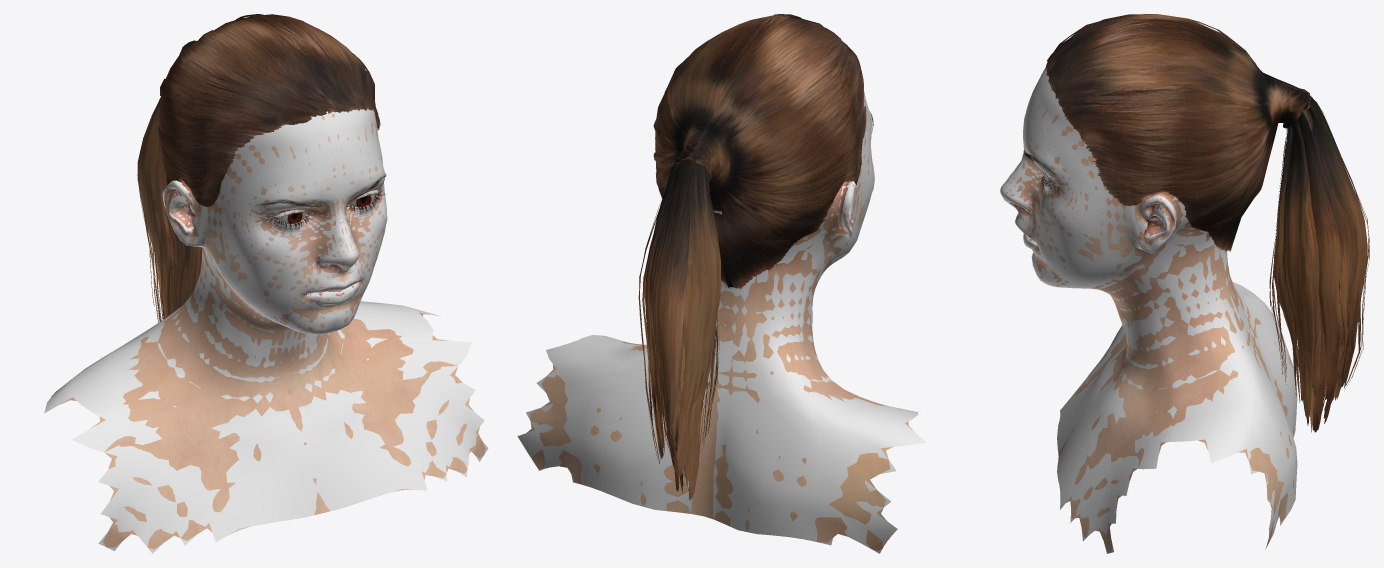
The model's file is FemaleHead.glb.
3 views of the same model, side by side, from view 1: azimuth 30°, elevation 25°; view 2: azimuth 150°, elevation 25°; view 3: azimuth 270°, elevation 25° (orthographic). The views are drawn at different scales.
Visible parts, largest first — view 1: scan, skin, hair; view 2: hair, scan, skin; view 3: hair, scan, skin.
Part boxes in pixels (box(x1,y1,x2,y2)): scan: box(44, 108, 488, 553); skin: box(51, 113, 485, 549); hair: box(137, 14, 380, 322); hair: box(638, 14, 866, 500); scan: box(517, 93, 926, 553); skin: box(527, 94, 914, 550); hair: box(1045, 14, 1369, 432); scan: box(1000, 68, 1297, 553); skin: box(1003, 73, 1294, 552).
Size of the model in its own units: 1.69 by 1.88 by 1.4.
5 materials, 5 textured.
